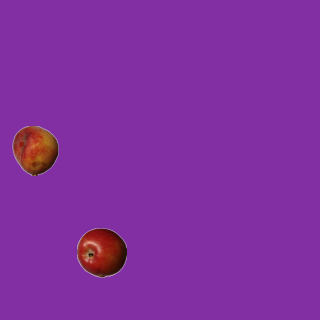Apple Braeburn: (76, 227, 126, 277)
Peach: (10, 125, 60, 175)
